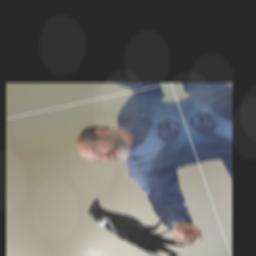Crow: (82, 185, 190, 256)
